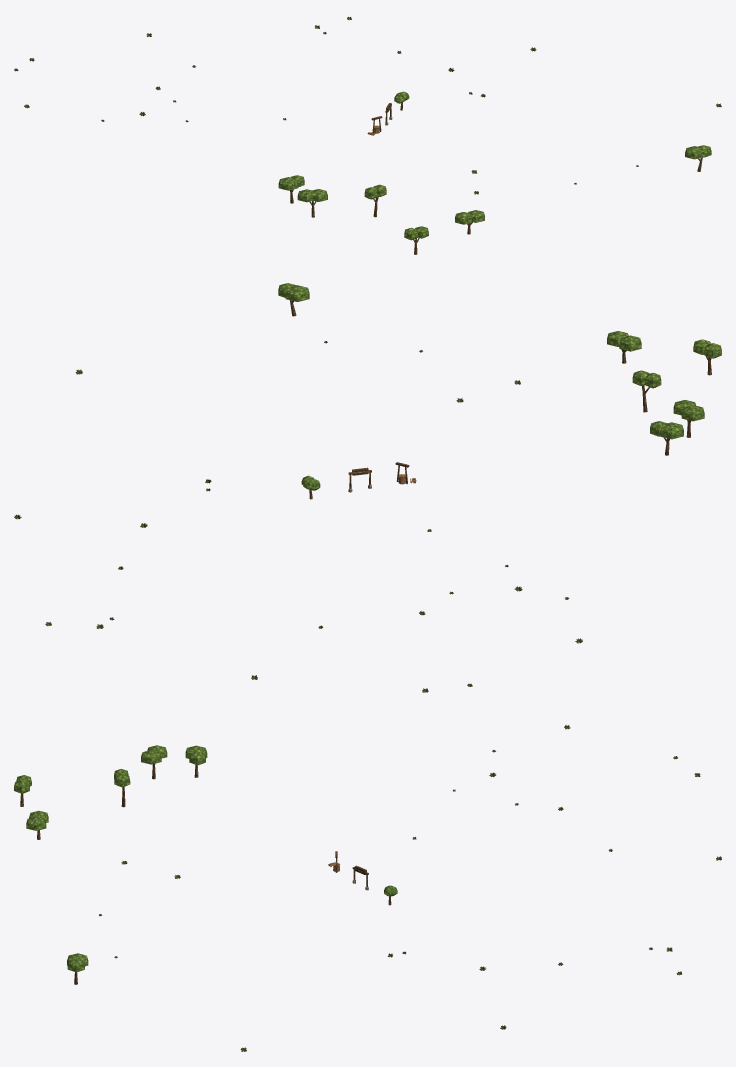
Rendered from FieldCell_1_0.fbx.
3 renders of one model, top to bottom at view 1: azimuth 30°, elevation 25°; view 2: azimuth 150°, elevation 25°; view 3: azimuth 270°, elevation 25°, orthographic. The views are drawn at different scales.
Parts seen in each view (by area): view 1: FieldCell_1_0; view 2: FieldCell_1_0; view 3: FieldCell_1_0.
Part boxes in pixels (x1,y1,x2,y2): FieldCell_1_0: [278, 91, 711, 254]; FieldCell_1_0: [278, 283, 721, 499]; FieldCell_1_0: [14, 745, 397, 984].
Bounding box in the file's own units: 14506 × 1845 × 14601.
